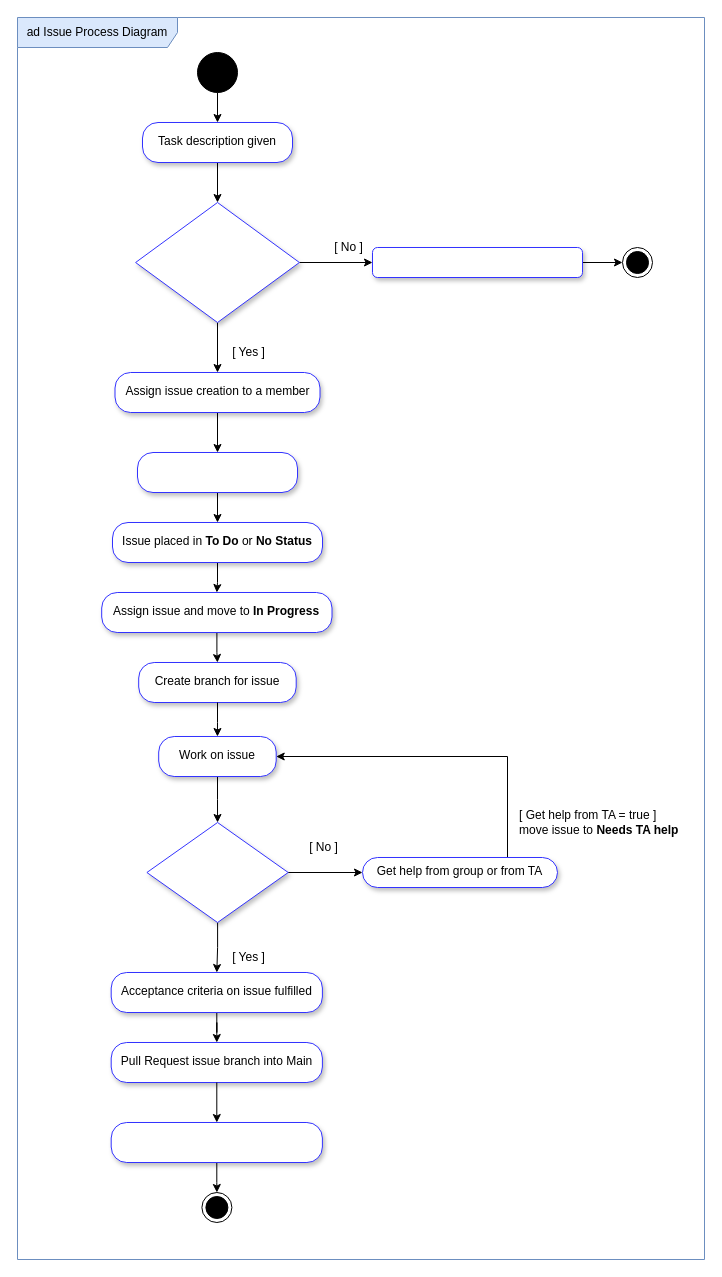
Image size: 722x1277. Some labels were removed from this diagram. Here are the shapes that lost their labels. From the top down, the centre of each, then its label:
the point at 218,264: Does the task relate to the project code, GitHub, or Azure?
the point at 478,263: Handle task in meeting
the point at 218,474: Task made into an issue
the point at 218,874: Issue Acceptance Criteria has been fulfilled?
the point at 217,1144: Issue moved to Done
